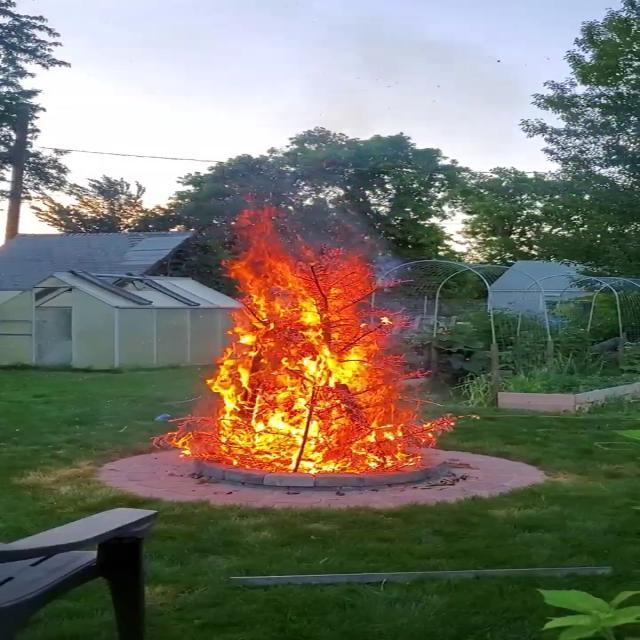Fire: (192, 204, 438, 476)
